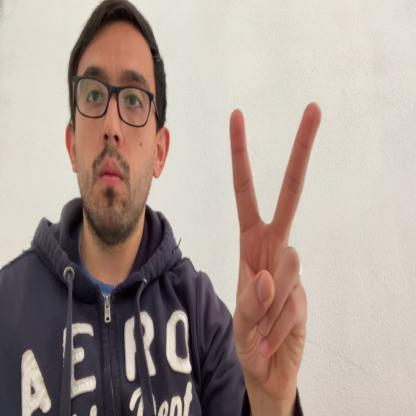V: (228, 99, 323, 398)
